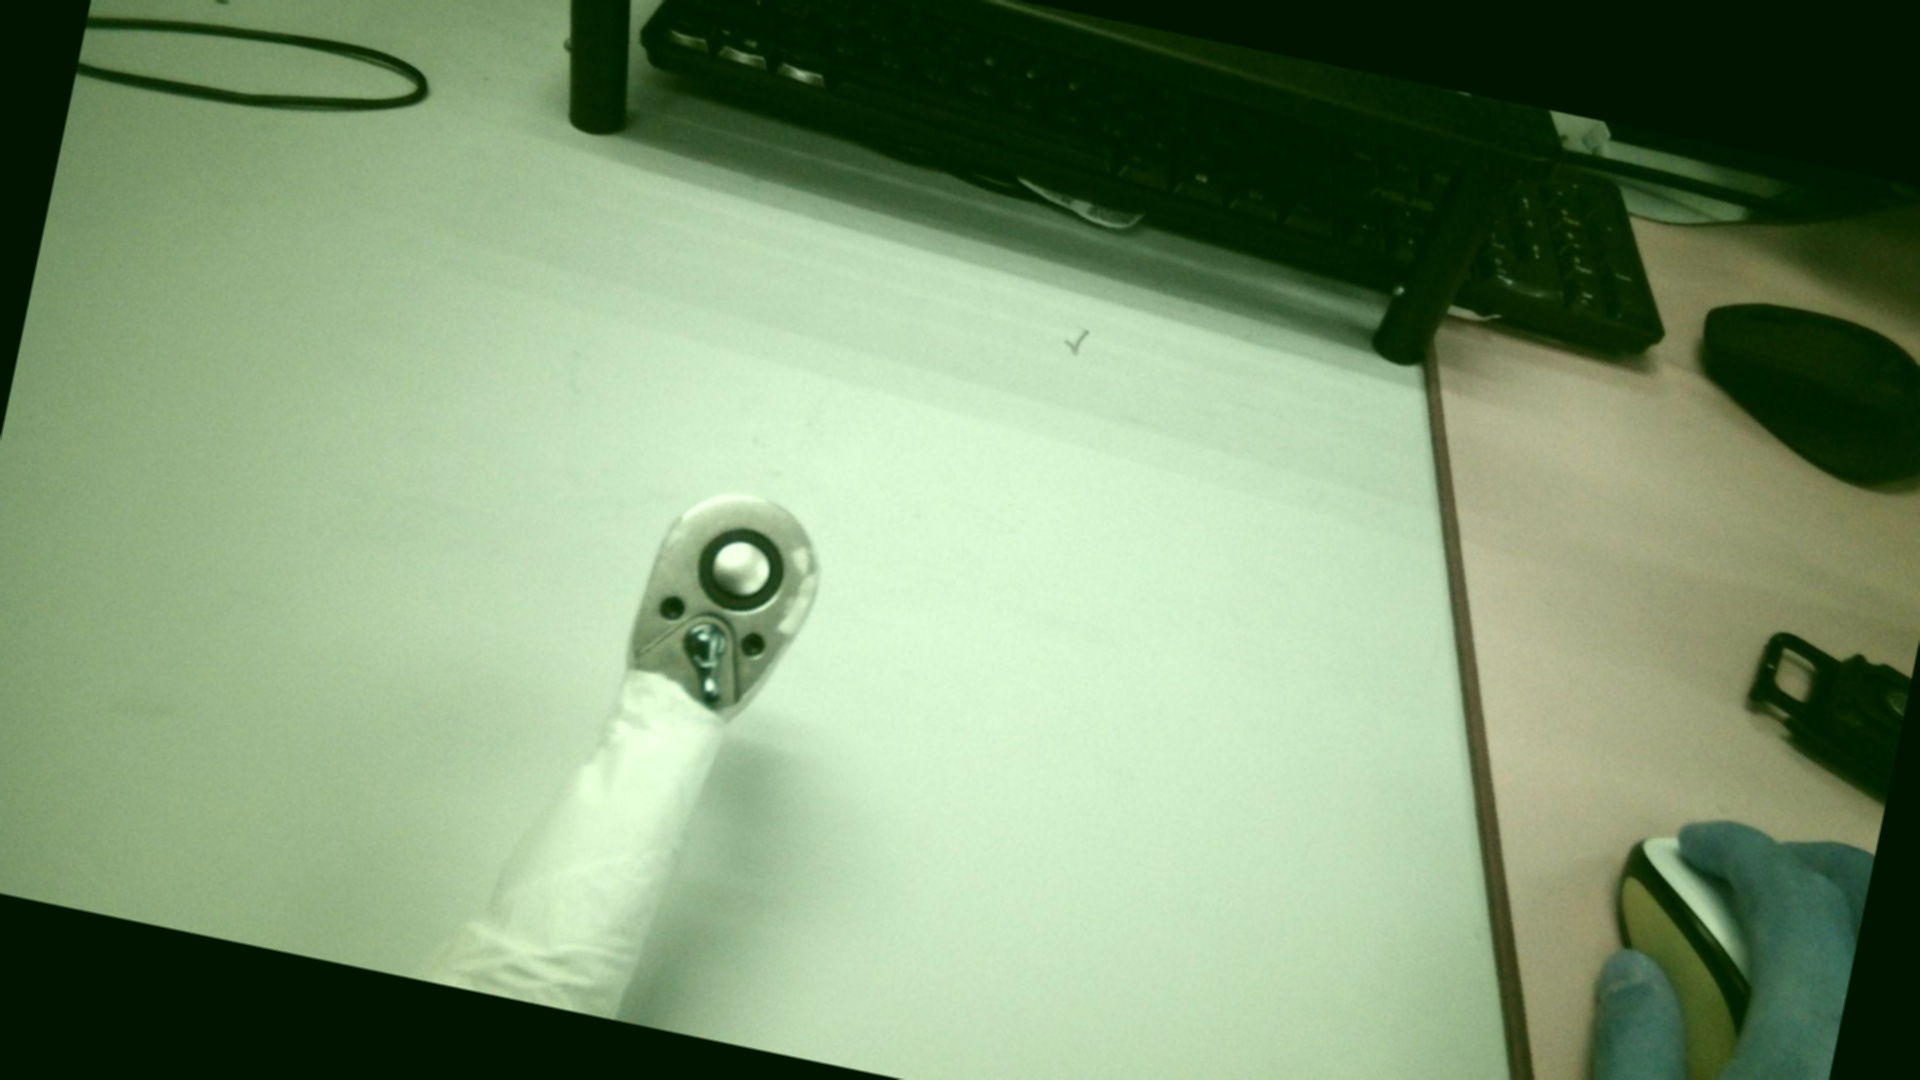wrench: (691, 517, 794, 620)
